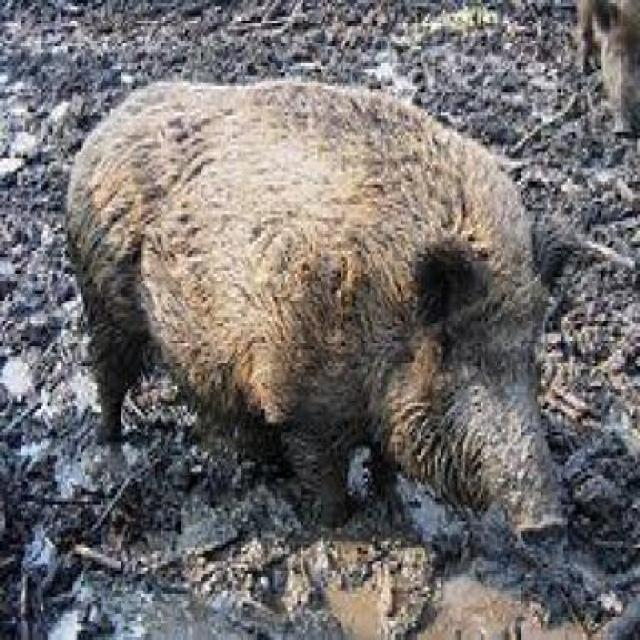wildboar: (59, 75, 581, 560), (567, 0, 640, 141)
